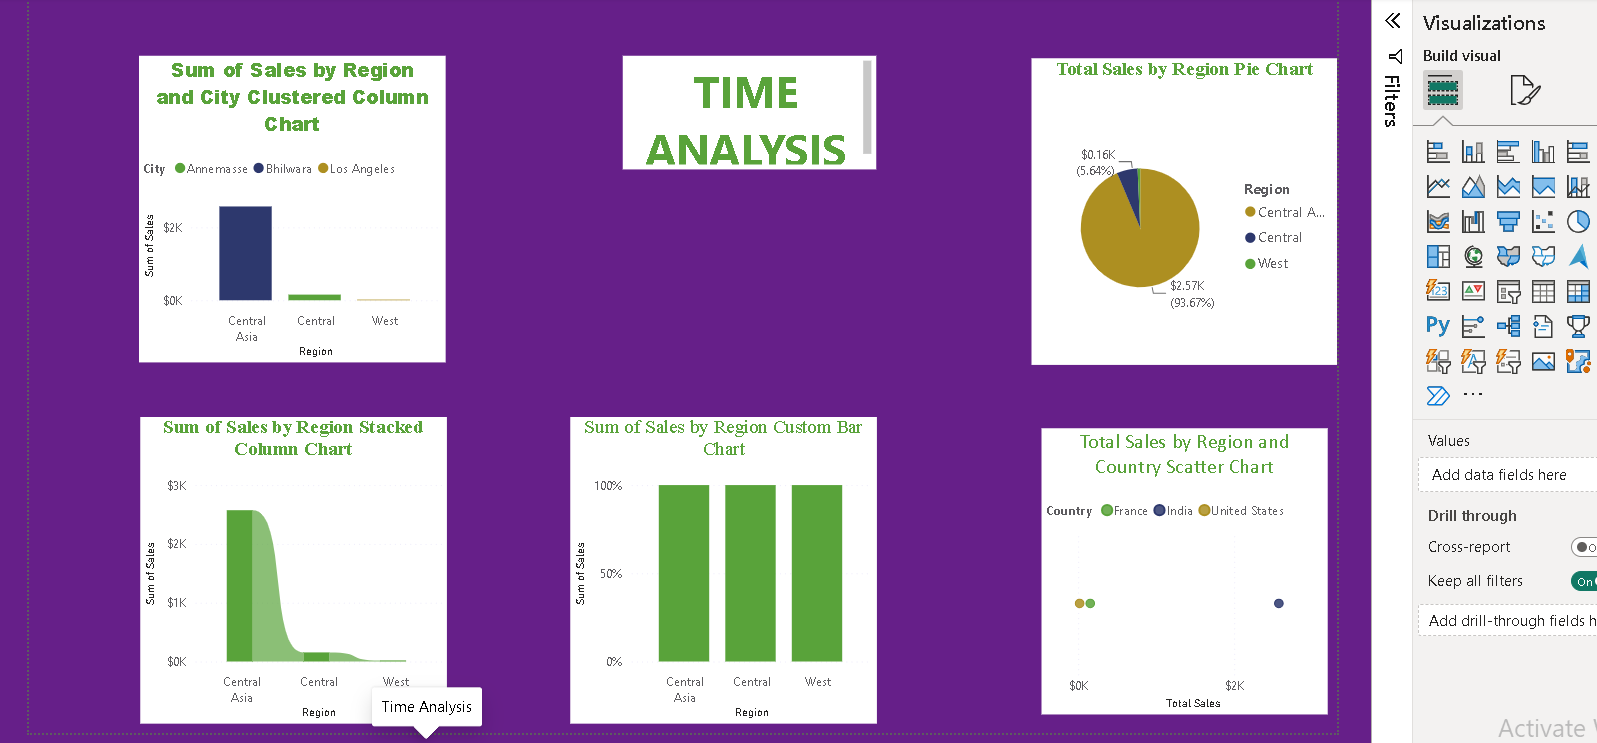

This screenshot's page, from the dashboard's own definition file:
{"tool":"powerbi","page":{"name":"Time Analysis","canvas":[1280,720],"ordinal":1},"visuals":[{"type":"scatterChart","title":"Total Sales by Region and Country Scatter Chart","fields":{"X":["Fact  Sales.Total Sales"],"Category":["Fact  Sales.Region"],"Series":["Fact  Sales.Country"]},"box":[990.5,421.9,280,280],"z":0},{"type":"pieChart","title":"Total Sales by Region Pie Chart","fields":{"Category":["Fact  Sales.Region"],"Y":["Fact  Sales.Total Sales"]},"box":[980.7,59.9,300,300],"z":1},{"type":"hundredPercentStackedColumnChart","title":"Sum of Sales by Region Custom Bar Chart","fields":{"Y":["Sum(Fact  Sales.Sales)"],"Category":["Fact  Sales.Region"]},"box":[529.5,410.9,300,300],"z":2},{"type":"ribbonChart","title":"Sum of Sales by Region Stacked Column Chart","fields":{"Category":["Fact  Sales.Region"],"Y":["Sum(Fact  Sales.Sales)"]},"box":[108.8,410.9,300,300],"z":3},{"type":"lineStackedColumnComboChart","title":"Sum of Sales by Region and City Clustered Column Chart","fields":{"Category":["Fact  Sales.Region"],"Series":["Fact  Sales.City"],"Y":["Sum(Fact  Sales.Sales)"]},"box":[107.6,57.5,300,300],"z":4},{"type":"textbox","box":[580.8,57.5,248.2,111.3],"z":5}]}

Visuals, with their boxes in screenshot pixels (x1, y1, x2, y2):
"Total Sales by Region and Country Scatter Chart" scatterChart: select_region(1035, 426, 1320, 712)
"Total Sales by Region Pie Chart" pieChart: select_region(1025, 57, 1331, 363)
"Sum of Sales by Region Custom Bar Chart" hundredPercentStackedColumnChart: select_region(565, 415, 871, 721)
"Sum of Sales by Region Stacked Column Chart" ribbonChart: select_region(136, 415, 442, 721)
"Sum of Sales by Region and City Clustered Column Chart" lineStackedColumnComboChart: select_region(135, 54, 441, 360)
textbox: select_region(617, 54, 870, 168)
